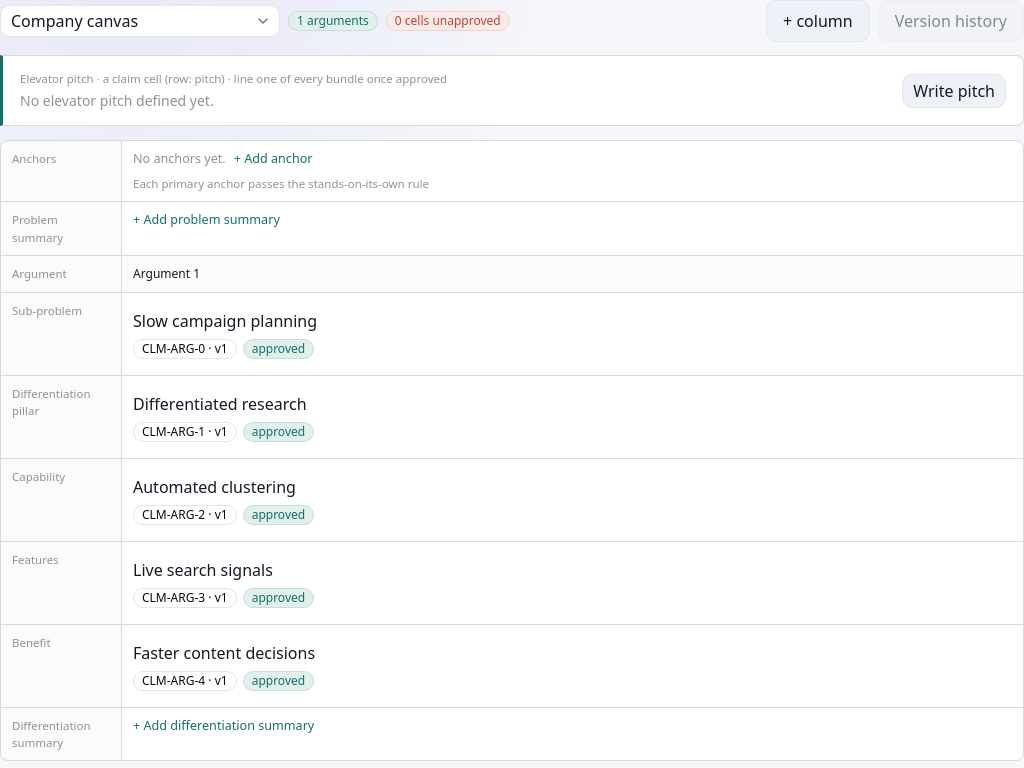
Test: V3 Canvas › loads the full linked-work drilldown for an Argument claim when opened
This screenshot has width=1024, height=768.
Click the text "Differentiated research" at (220, 404), box [133, 393, 307, 415]
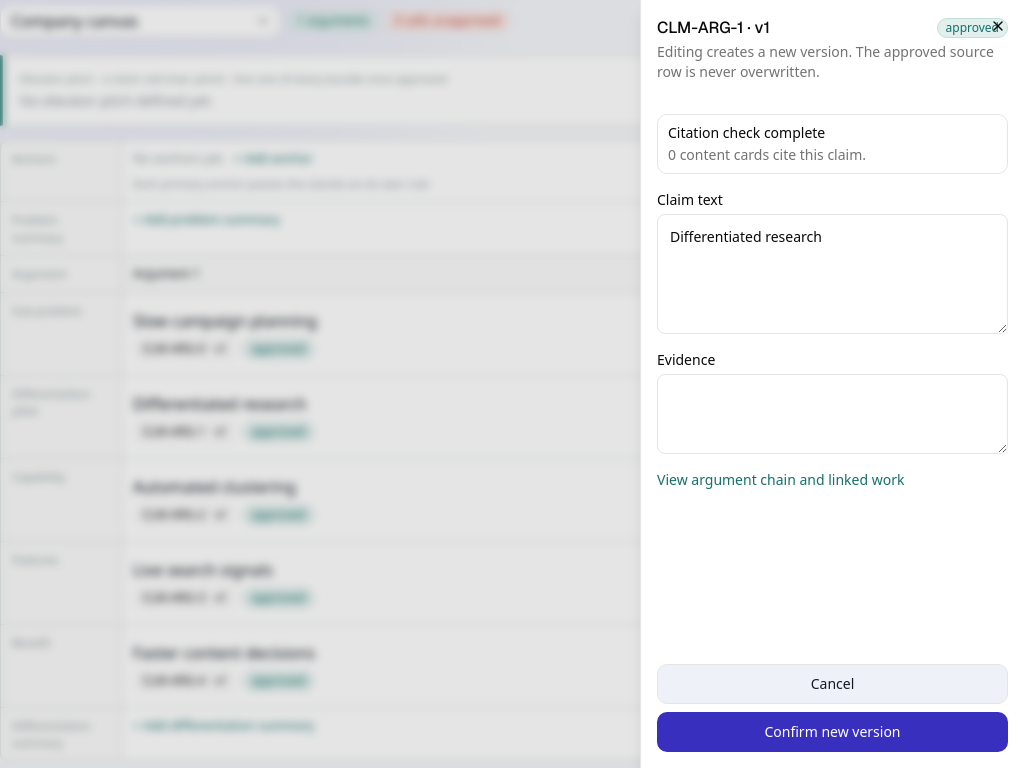
Click the button "View argument chain and linked work" at (781, 480), box [657, 470, 904, 490]
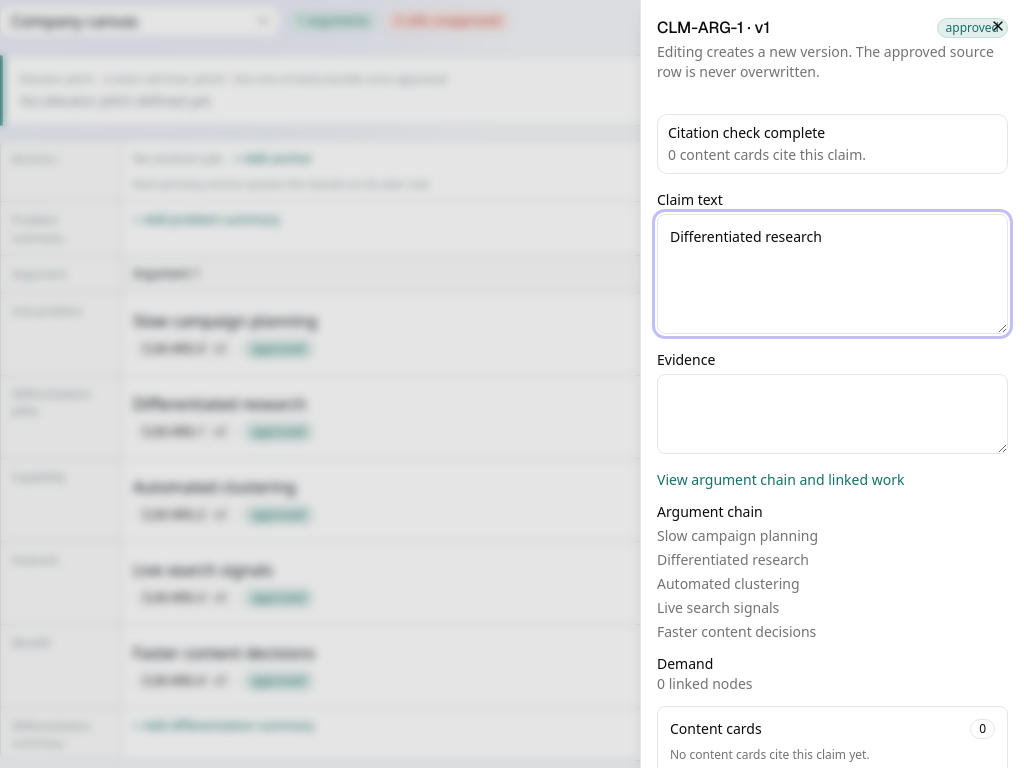
Expected: the text "Slow campaign planning" next to "Sub-problem" is shown, [133, 310, 317, 332]
Now the text "0 linked nodes" is shown, box [657, 674, 752, 693]
Now the text "No content cards cite this claim yet." is shown, box [670, 746, 870, 763]
